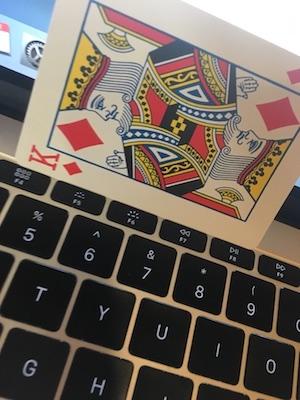KingOfDiamonds: (2, 2, 297, 257)
